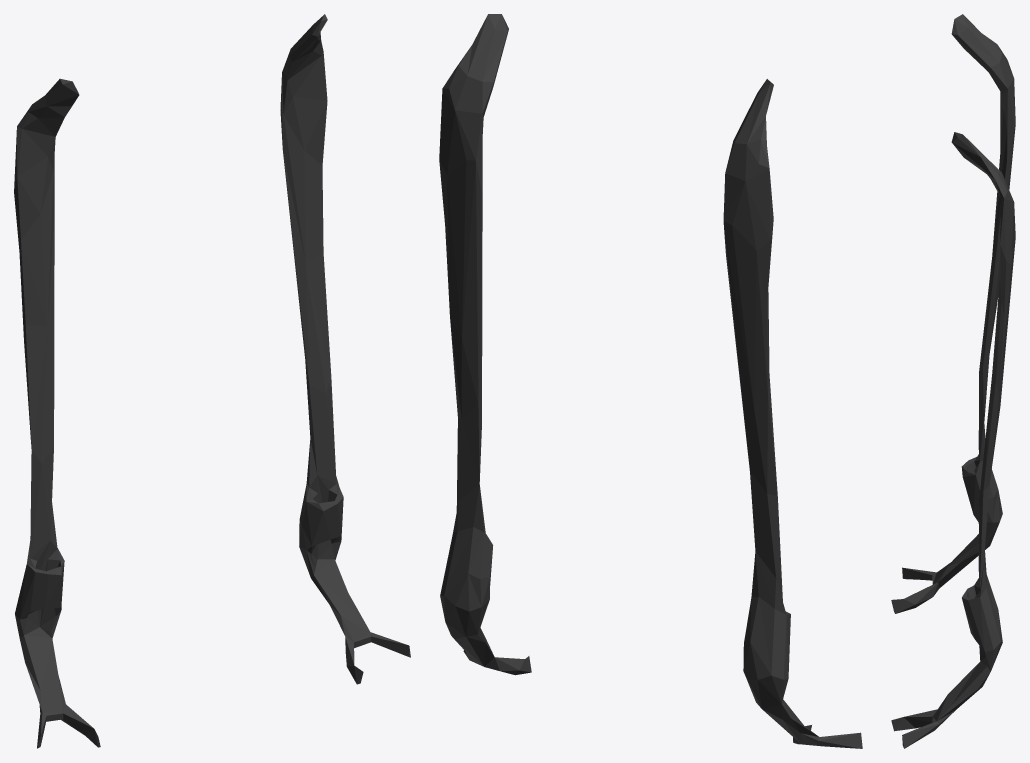
Rendered from tendon_flexor_digitorum_superficialis_HL.glb.
3 renders of one model, left to right at view 1: azimuth 30°, elevation 25°; view 2: azimuth 150°, elevation 25°; view 3: azimuth 270°, elevation 25°, orthographic. The views are drawn at different scales.
Visible parts, largest first — view 1: tendon_flexor_digitorum_superficialis_HL; view 2: tendon_flexor_digitorum_superficialis_HL; view 3: tendon_flexor_digitorum_superficialis_HL.
Boxes of the visible parts, x1,y1,x2,y2 form: tendon_flexor_digitorum_superficialis_HL: (14,14,410,748); tendon_flexor_digitorum_superficialis_HL: (439,14,862,748); tendon_flexor_digitorum_superficialis_HL: (891,14,1015,748).
Bounding box in the file's own units: 0.00592 × 0.00971 × 0.00183.
Materials: 1 (1 with a texture image).
